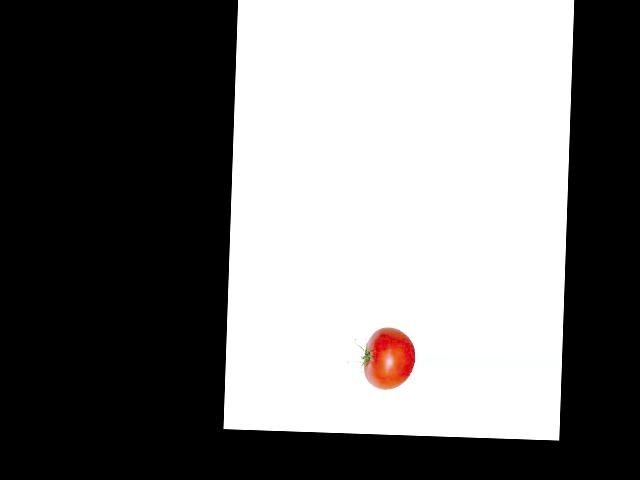tomato: (362, 327, 416, 391)
